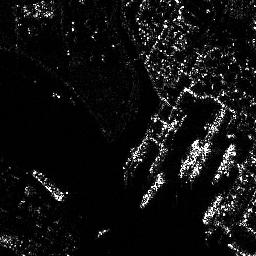ship: (31, 168, 65, 202), (189, 141, 212, 183), (139, 174, 164, 210), (202, 191, 224, 226), (179, 137, 198, 177), (215, 141, 234, 181)
